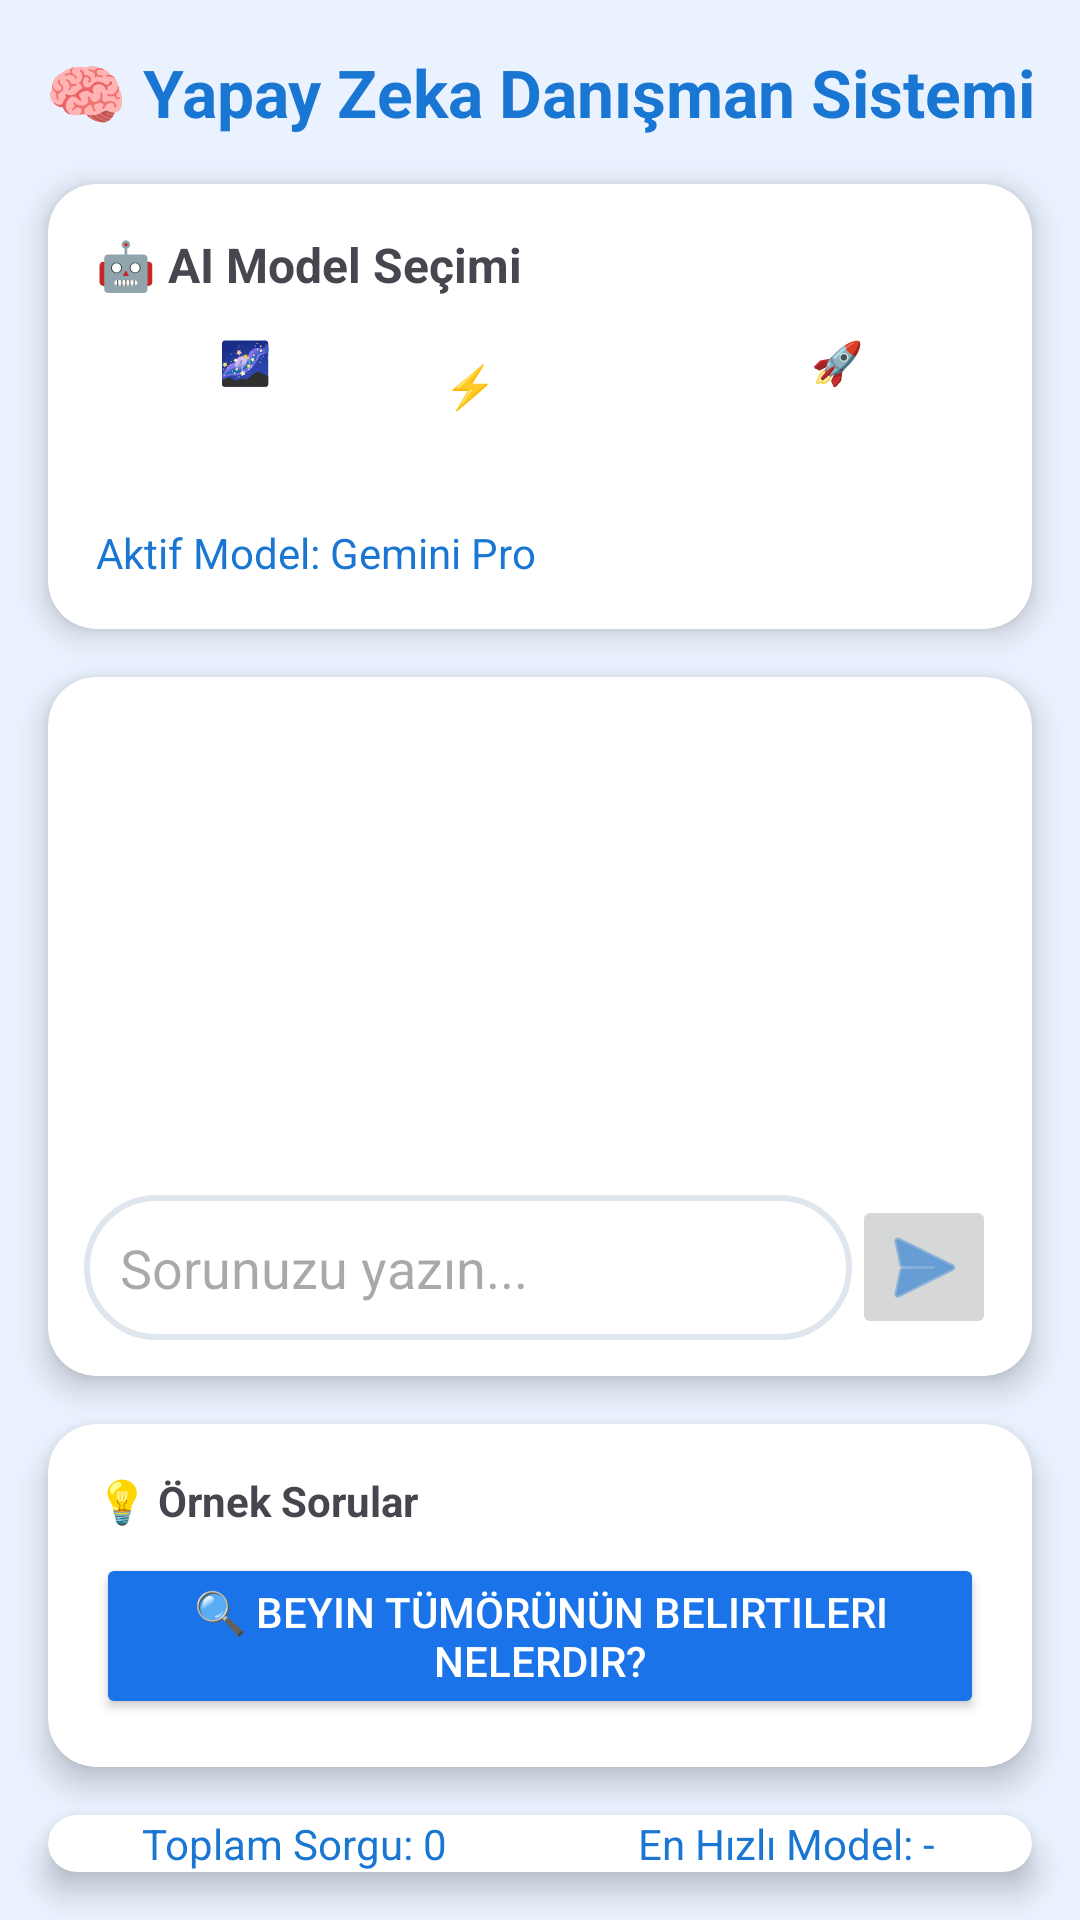

Where to tap for icons on this 1080x1920 app screen, as (x=x, y=y):
Gönder: (x=924, y=1267)
